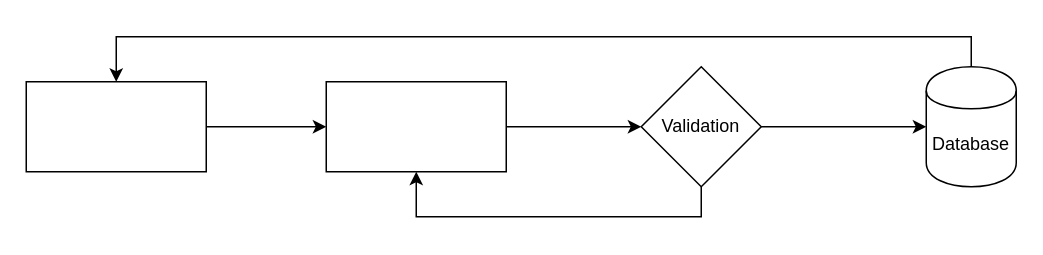
Image size: 1043x255. Some labels were removed from this diagram. Here are the shapes that lost their labels. From the top down, the centre of each, then its label:
At pixel 115 126: "Item List".
At pixel 415 126: "Damage Item form - Department".
